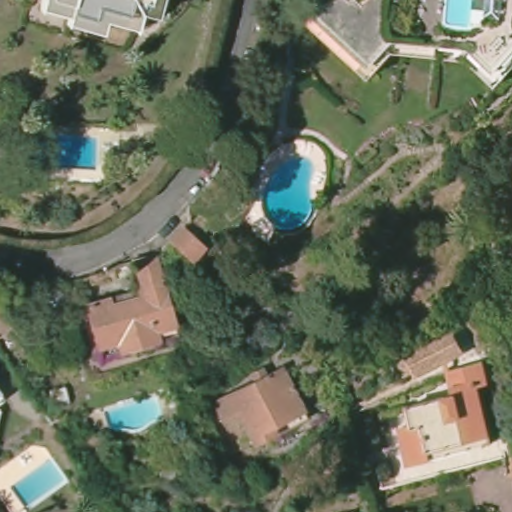pool: (264, 155, 316, 233), (11, 461, 73, 504), (43, 131, 105, 171), (103, 392, 164, 432), (437, 1, 482, 36)
